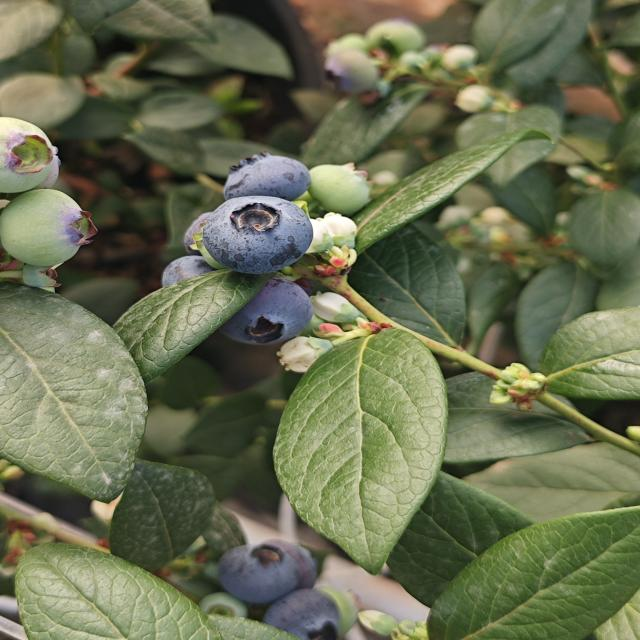ripe: (192, 190, 314, 272), (208, 532, 328, 607), (217, 268, 316, 351), (219, 156, 327, 208), (250, 588, 356, 640), (156, 244, 218, 296)
